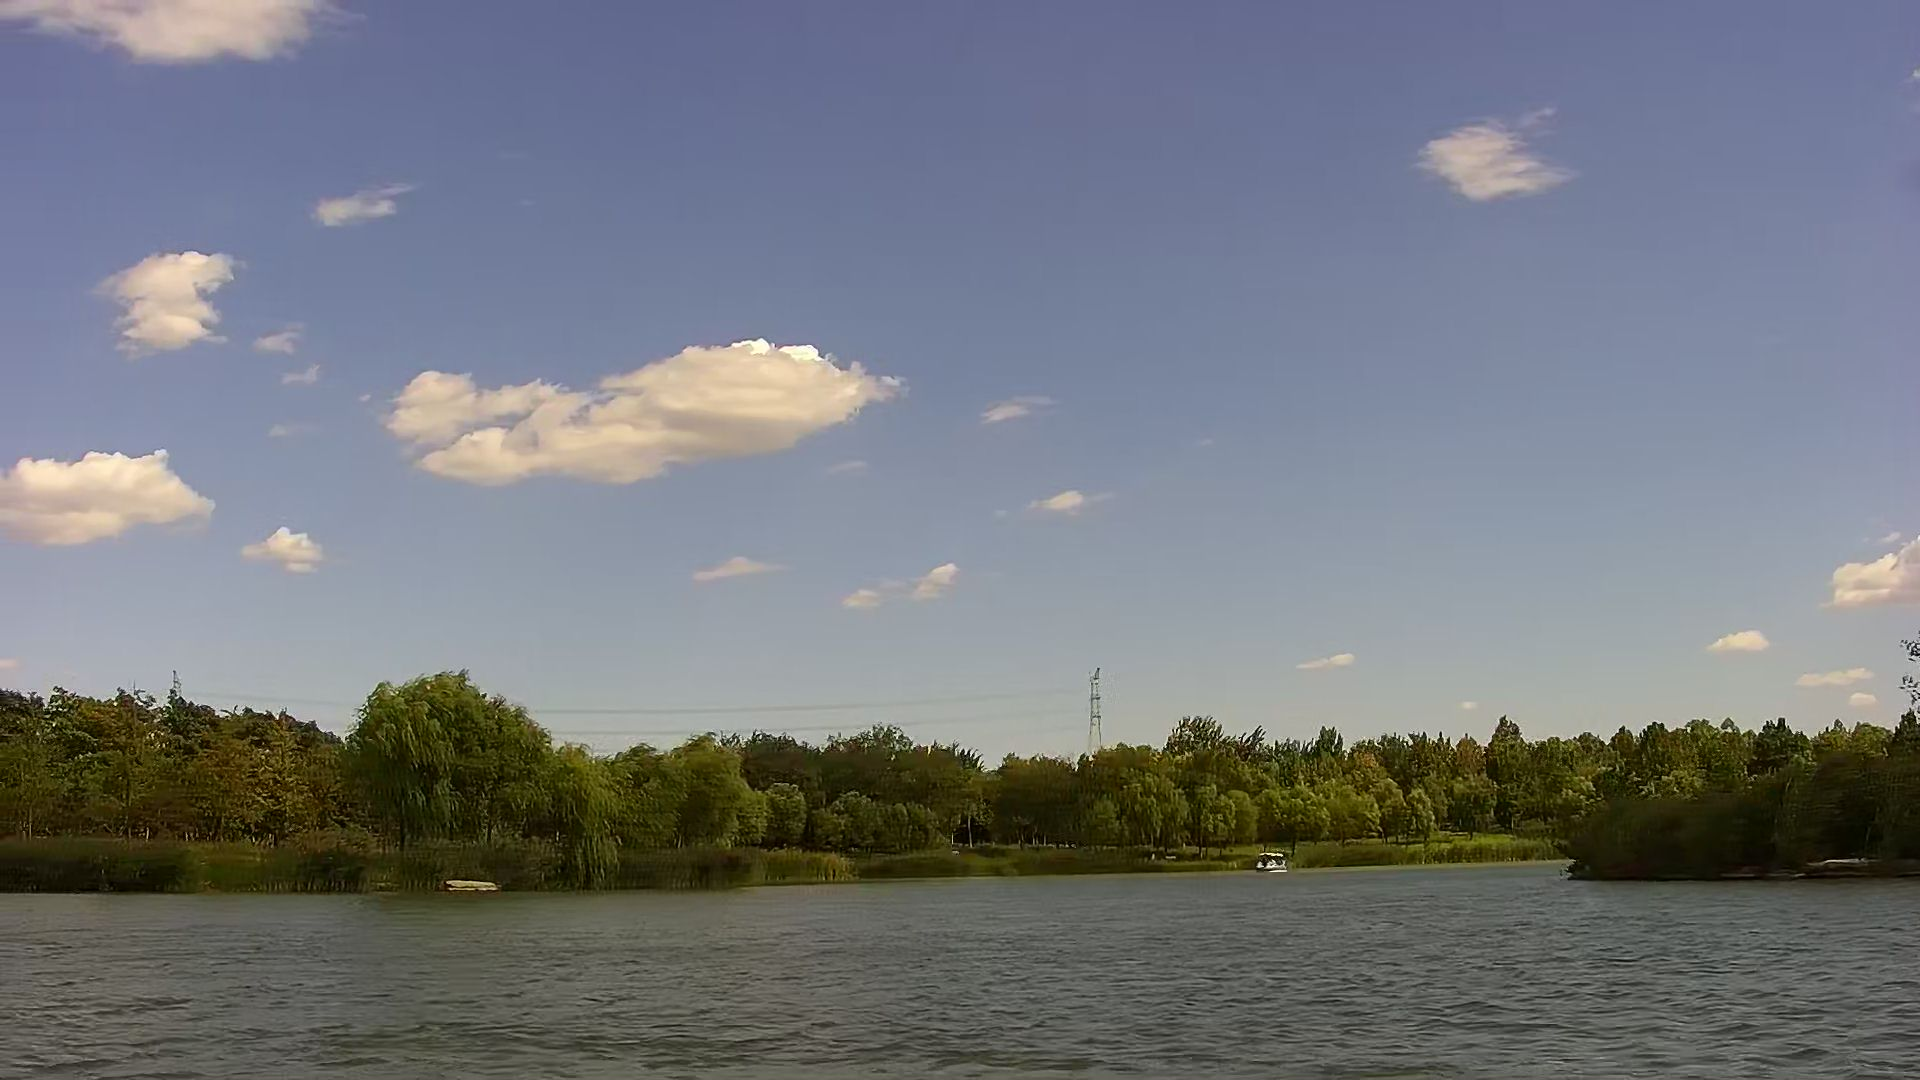boat: (1255, 849, 1282, 876)
rock: (1809, 856, 1861, 876), (446, 877, 489, 893)
